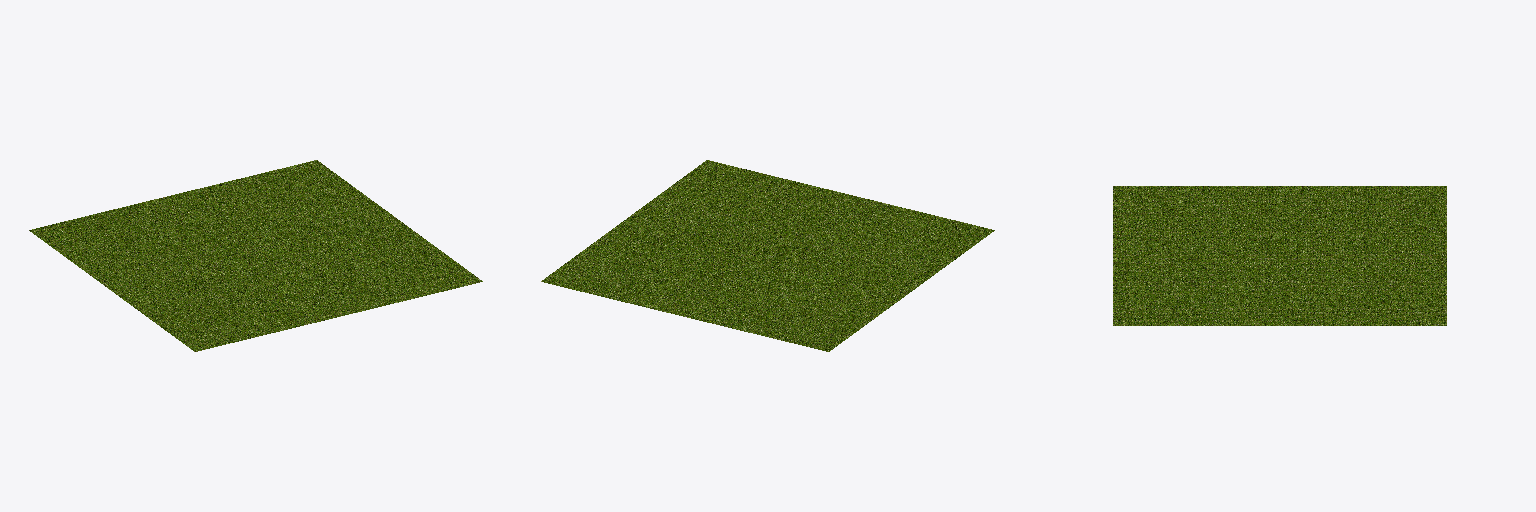
3 renders of one model, left to right at view 1: azimuth 30°, elevation 25°; view 2: azimuth 150°, elevation 25°; view 3: azimuth 270°, elevation 25°, orthographic.
Parts seen in each view (by area): view 1: Plane; view 2: Plane; view 3: Plane.
Part boxes in pixels (bbox=[...]): Plane: bbox=[29, 160, 482, 351]; Plane: bbox=[541, 160, 994, 351]; Plane: bbox=[1113, 186, 1446, 325].
Bounding box in the file's own units: 615 × 0 × 615.
Materials: 1 (1 with a texture image).